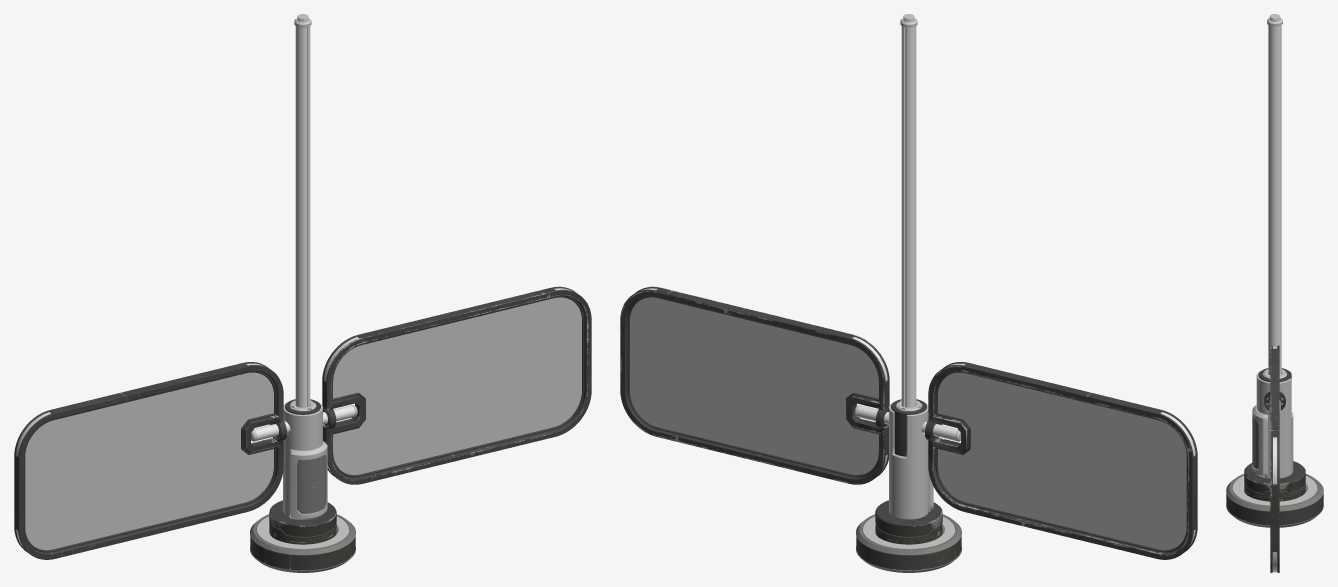
The model's file is KB3D_MTM_PropSolarPanel_A.fbx.
3 renders of one model, left to right at view 1: azimuth 30°, elevation 25°; view 2: azimuth 150°, elevation 25°; view 3: azimuth 270°, elevation 25°, orthographic. The views are drawn at different scales.
Visible parts, largest first — view 1: KB3D_MTM_PropSolarPanel_A_Panels, KB3D_MTM_PropSolarPanel_A_Post; view 2: KB3D_MTM_PropSolarPanel_A_Panels, KB3D_MTM_PropSolarPanel_A_Post; view 3: KB3D_MTM_PropSolarPanel_A_Post, KB3D_MTM_PropSolarPanel_A_Panels.
Part boxes in pixels (box(x1,y1,x2,y2)): KB3D_MTM_PropSolarPanel_A_Panels: box(14, 286, 591, 559); KB3D_MTM_PropSolarPanel_A_Post: box(250, 14, 357, 572); KB3D_MTM_PropSolarPanel_A_Panels: box(620, 286, 1197, 559); KB3D_MTM_PropSolarPanel_A_Post: box(854, 14, 961, 572); KB3D_MTM_PropSolarPanel_A_Post: box(1226, 14, 1323, 527); KB3D_MTM_PropSolarPanel_A_Panels: box(1264, 345, 1285, 572).
Size of the model in its own units: 656 by 586 by 105.
